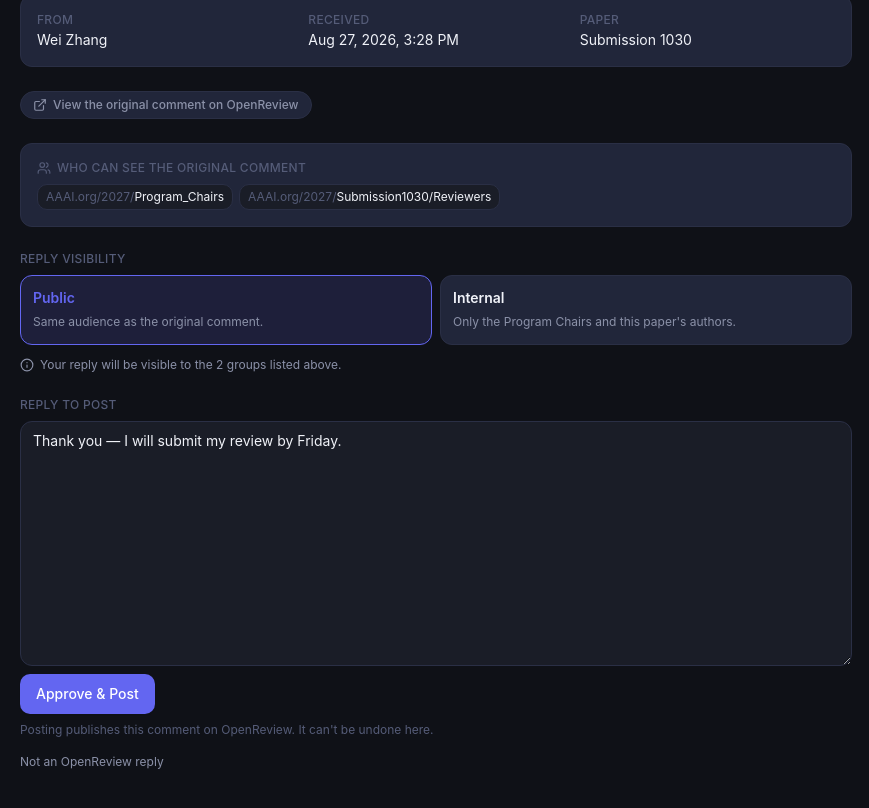
Test: post — failure › shows a specific message for OpenReviewAPIError
(page scrolled)
Check: the text box labelled "Reply to post" holds "Thank you — I will submit my review by Friday.", box [20, 420, 852, 666]
Click the button "Approve & Post" at (87, 694), box [20, 674, 155, 714]
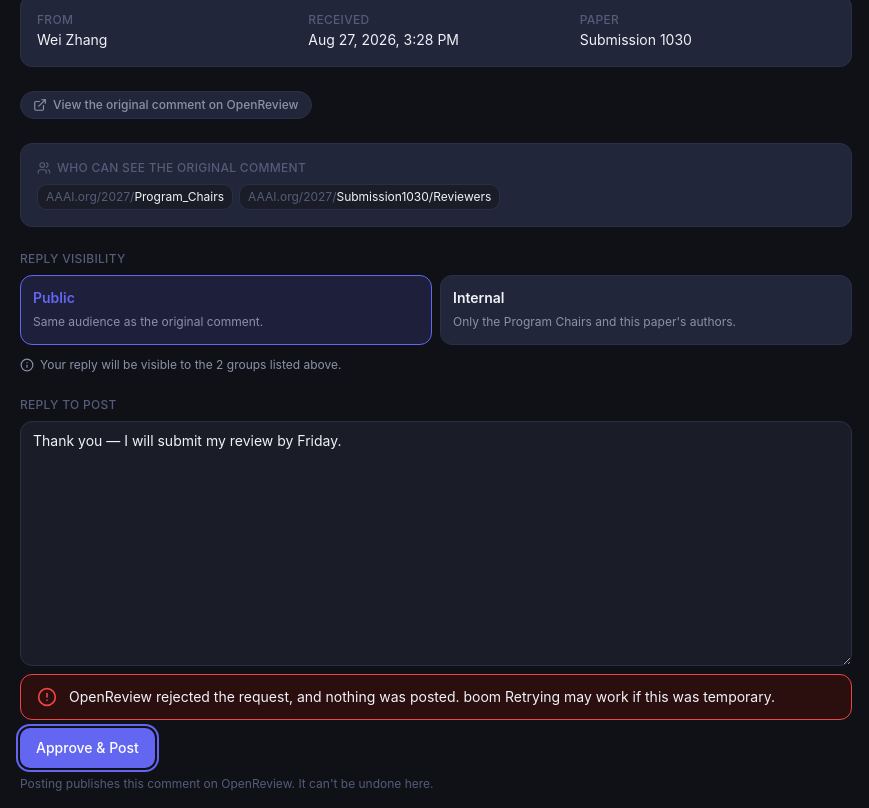
Check: the message does not show "something went wrong", box [20, 674, 852, 720]
Check: the message shows "OpenReview rejected the request", box [69, 688, 775, 705]
